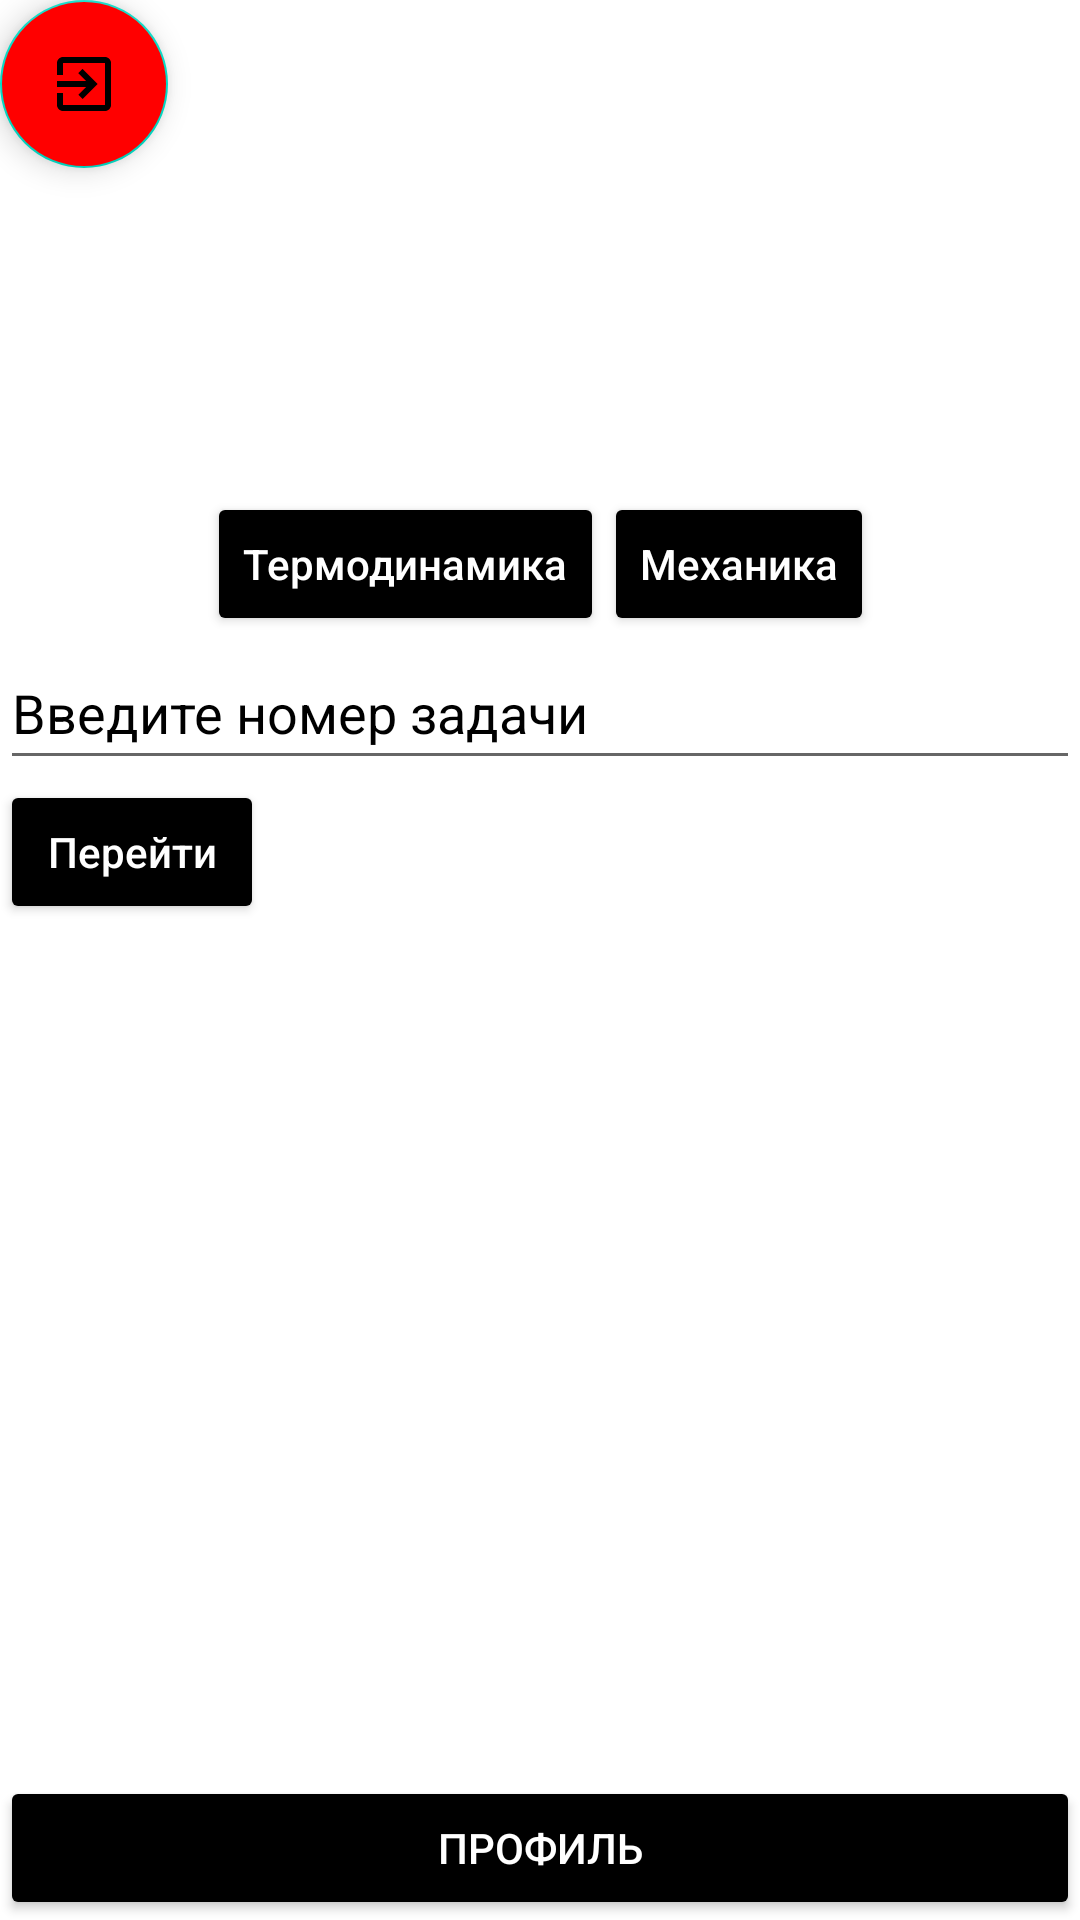

Icon bounding boxes for this 1080×1920 phone screenshot, format (x1, y1, x2, y2):
exit to app: (0, 0, 168, 168)
